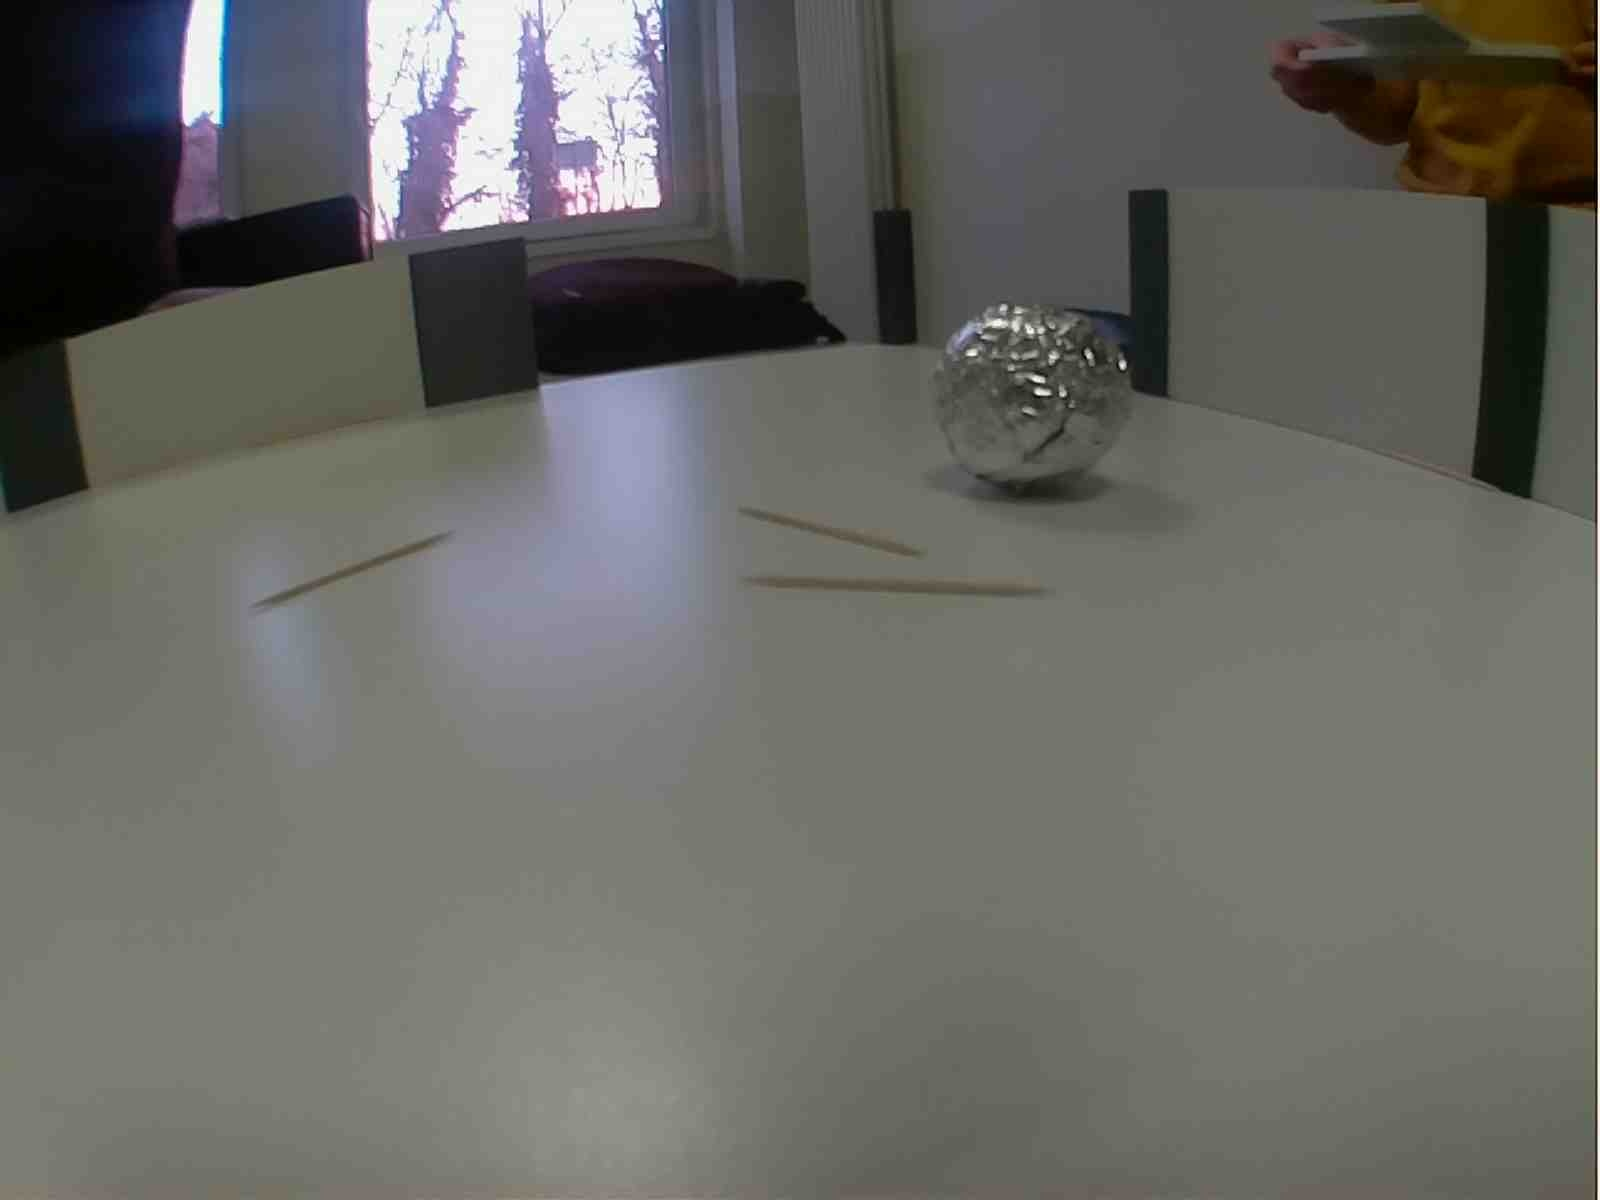bianca: (934, 300, 1136, 505)
